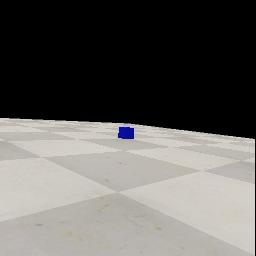box: (118, 127, 134, 139)
